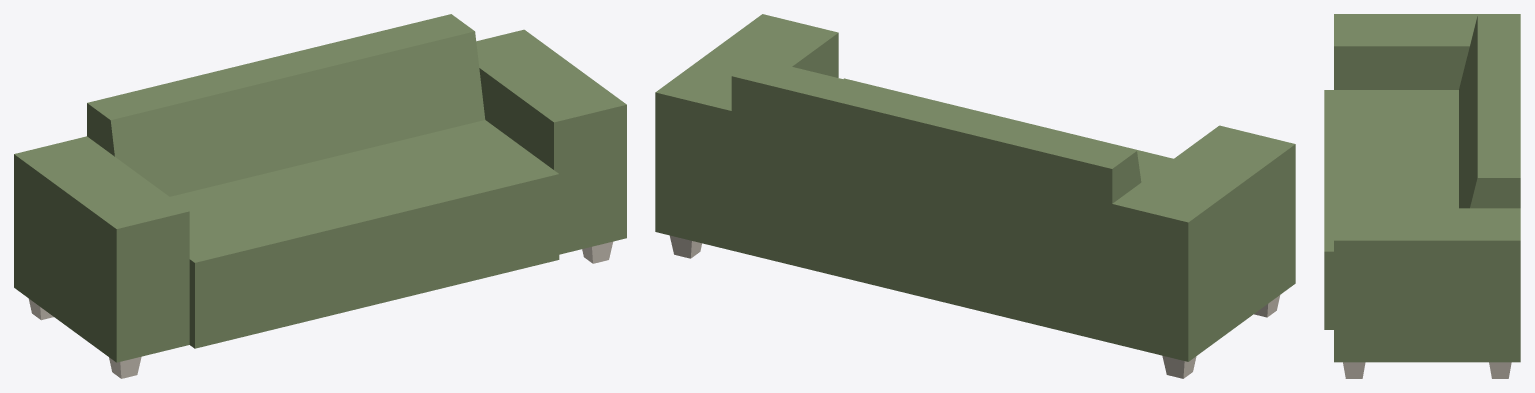
The model's file is kitLoungeDesignSofa.glb.
3 views of the same model, side by side, from view 1: azimuth 30°, elevation 25°; view 2: azimuth 150°, elevation 25°; view 3: azimuth 270°, elevation 25° (orthographic). The views are drawn at different scales.
Visible parts, largest first — view 1: kitLoungeDesignSofa_fabricAccent, kitLoungeDesignSofa_metal; view 2: kitLoungeDesignSofa_fabricAccent, kitLoungeDesignSofa_metal; view 3: kitLoungeDesignSofa_fabricAccent, kitLoungeDesignSofa_metal.
Boxes of the visible parts, x1,y1,x2,y2 form: kitLoungeDesignSofa_fabricAccent: (14, 14, 626, 362); kitLoungeDesignSofa_metal: (28, 241, 612, 378); kitLoungeDesignSofa_fabricAccent: (655, 14, 1295, 361); kitLoungeDesignSofa_metal: (669, 235, 1280, 378); kitLoungeDesignSofa_fabricAccent: (1324, 14, 1520, 362); kitLoungeDesignSofa_metal: (1343, 362, 1511, 378).
Bounding box in the file's own units: 1.96 × 0.7 × 0.7175.
